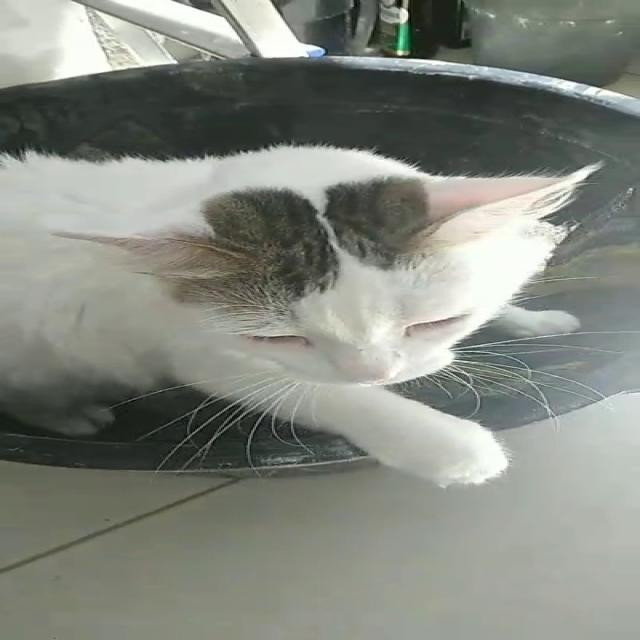Simba: (24, 141, 581, 497)
